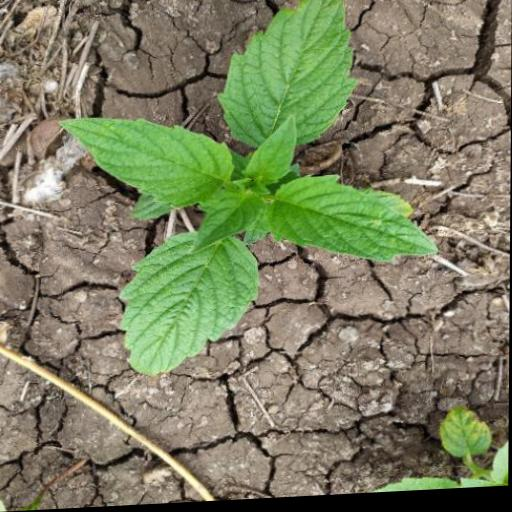crop: (52, 0, 472, 388)
